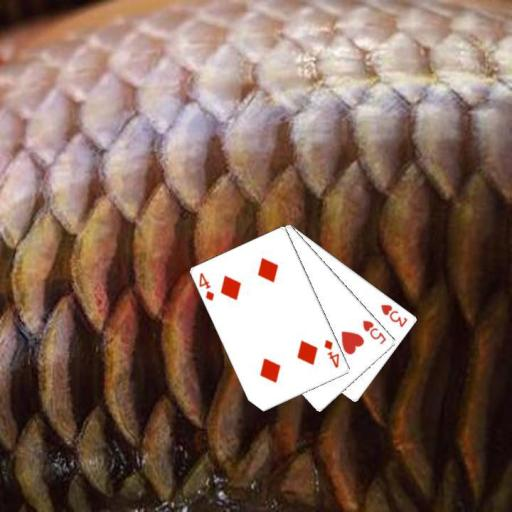3H: (378, 301, 410, 329)
4D: (196, 269, 216, 303), (322, 336, 341, 370)
5H: (360, 317, 388, 346)
